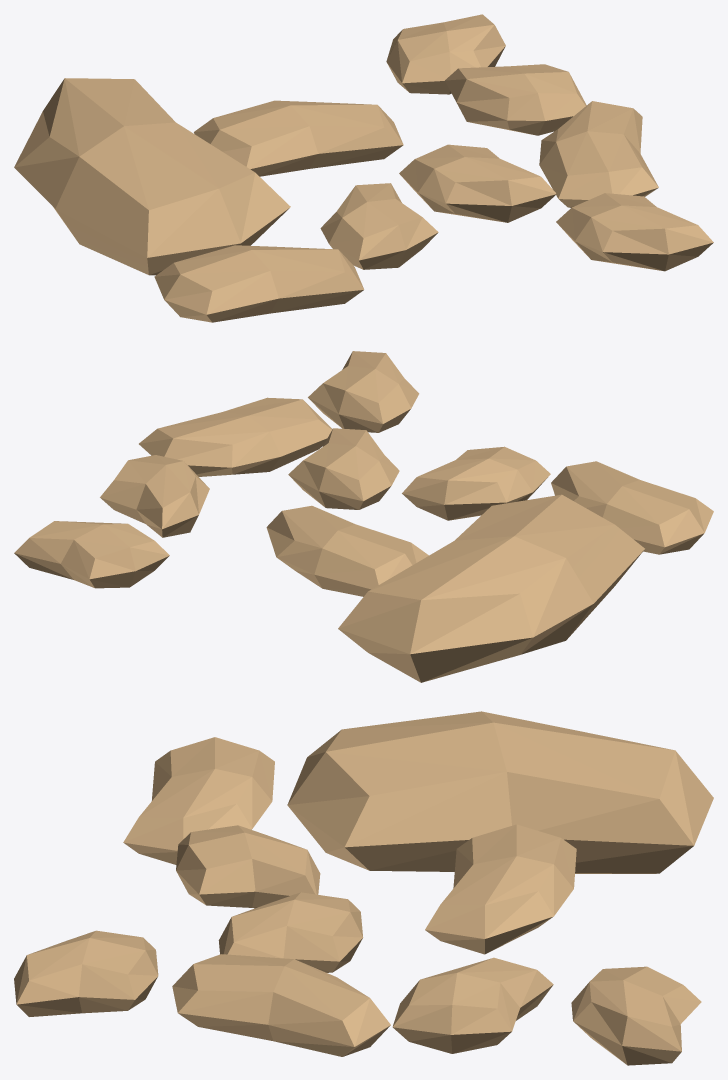
Rendered from 06 Stone_1.FBX.
The picture shows the model from 3 angles, top to bottom: view 1: azimuth 30°, elevation 25°; view 2: azimuth 150°, elevation 25°; view 3: azimuth 270°, elevation 25°; orthographic projection. The views are drawn at different scales.
Visible parts, largest first — view 1: Stone; view 2: Stone; view 3: Stone.
Part boxes in pixels (bbox=[...]): Stone: bbox=[14, 14, 713, 322]; Stone: bbox=[14, 351, 713, 682]; Stone: bbox=[14, 711, 713, 1065].
Size of the model in its own units: 3486 by 722 by 3403.
